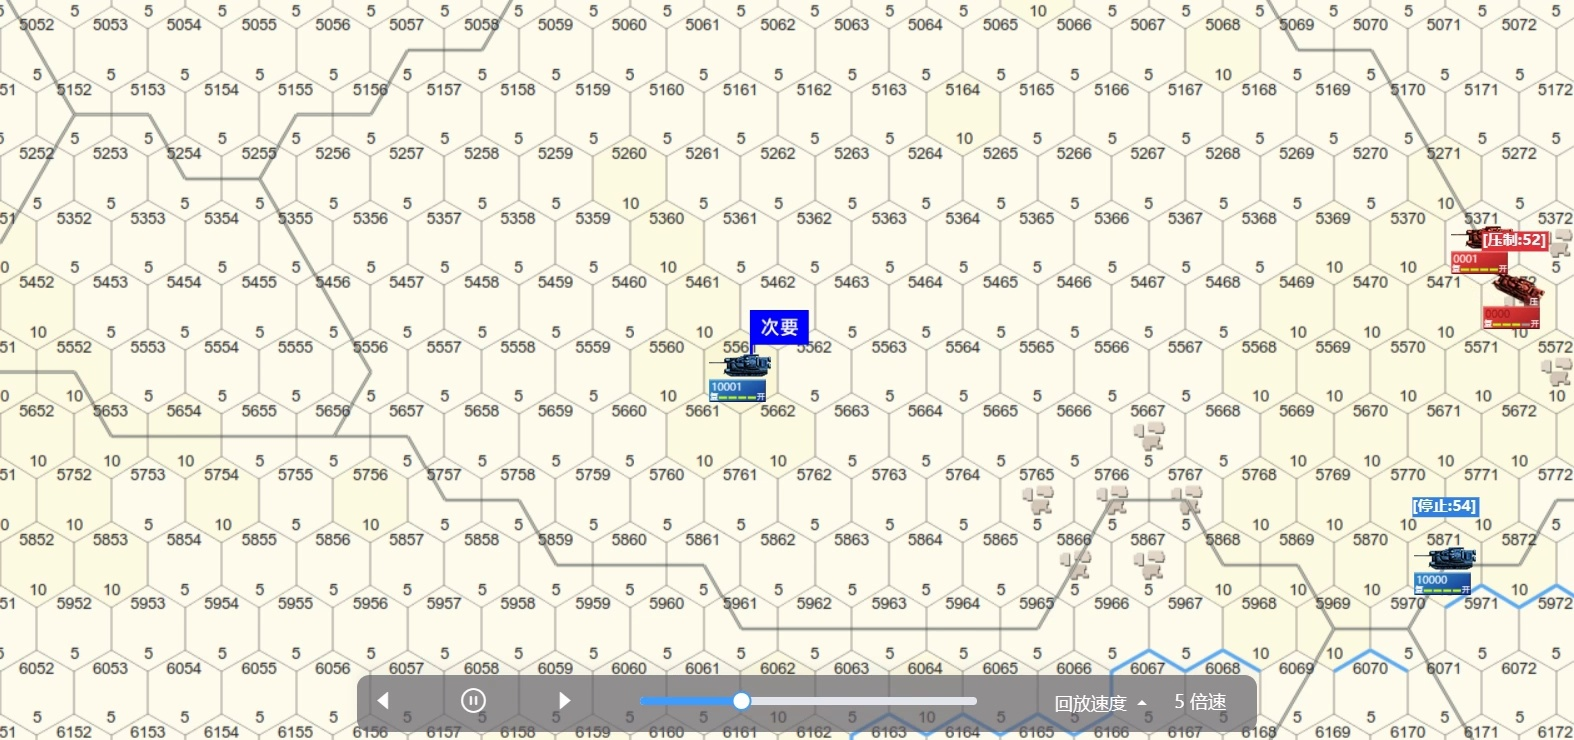blue_tank: (707, 355, 783, 404), (1414, 547, 1483, 596)
red_tank: (1481, 280, 1548, 334), (1452, 228, 1513, 274)
